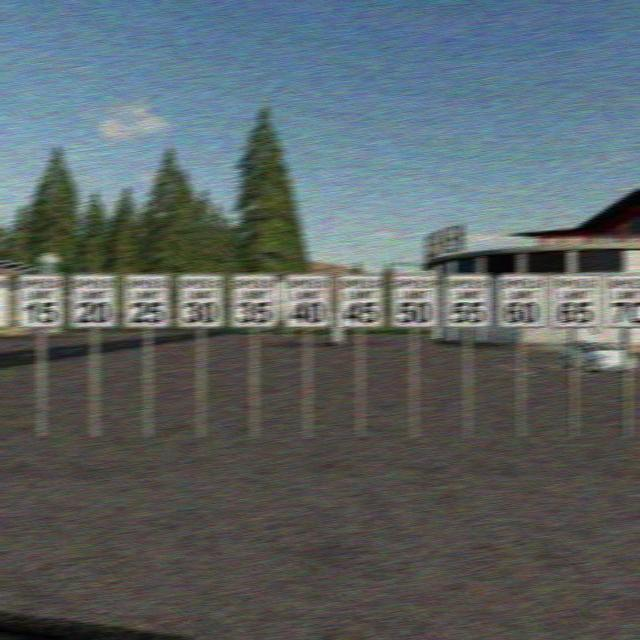speedLimit15: (17, 269, 64, 327)
speedLimit20: (70, 273, 116, 331)
speedLimit25: (125, 272, 172, 328)
speedLimit30: (180, 266, 224, 330)
speedLimit35: (228, 272, 276, 328)
speedLimit40: (282, 273, 331, 329)
speedLimit45: (336, 268, 384, 328)
speedLimit50: (388, 274, 437, 328)
speedLimit55: (444, 272, 492, 332)
speedLimit60: (500, 272, 544, 328)
speedLimit65: (554, 271, 598, 331)
speedLimit70: (604, 274, 640, 326)
